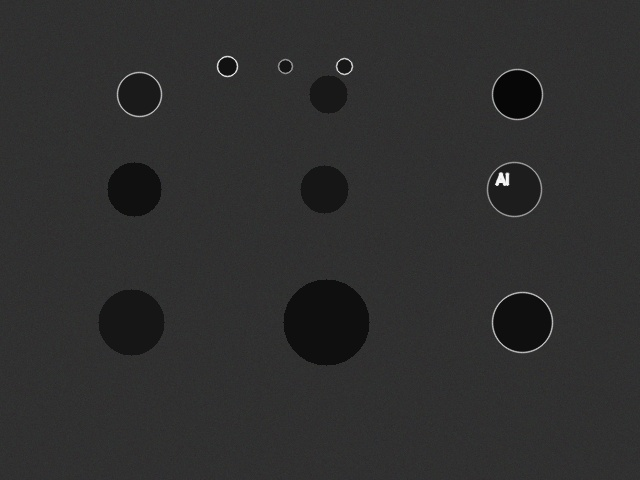hole: (283, 279, 369, 365), (98, 289, 164, 355), (492, 292, 552, 352), (107, 162, 161, 216), (487, 162, 541, 216), (492, 69, 542, 119), (300, 165, 348, 213), (117, 72, 161, 116), (309, 75, 347, 113), (217, 56, 237, 76), (336, 58, 352, 74), (278, 59, 292, 73)
